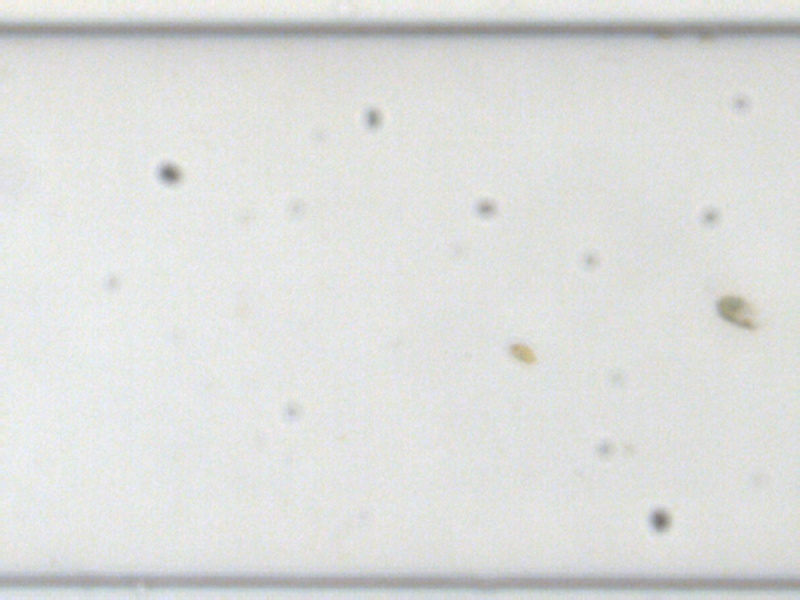Dunaliella salina: (715, 289, 760, 334), (506, 339, 539, 366)
